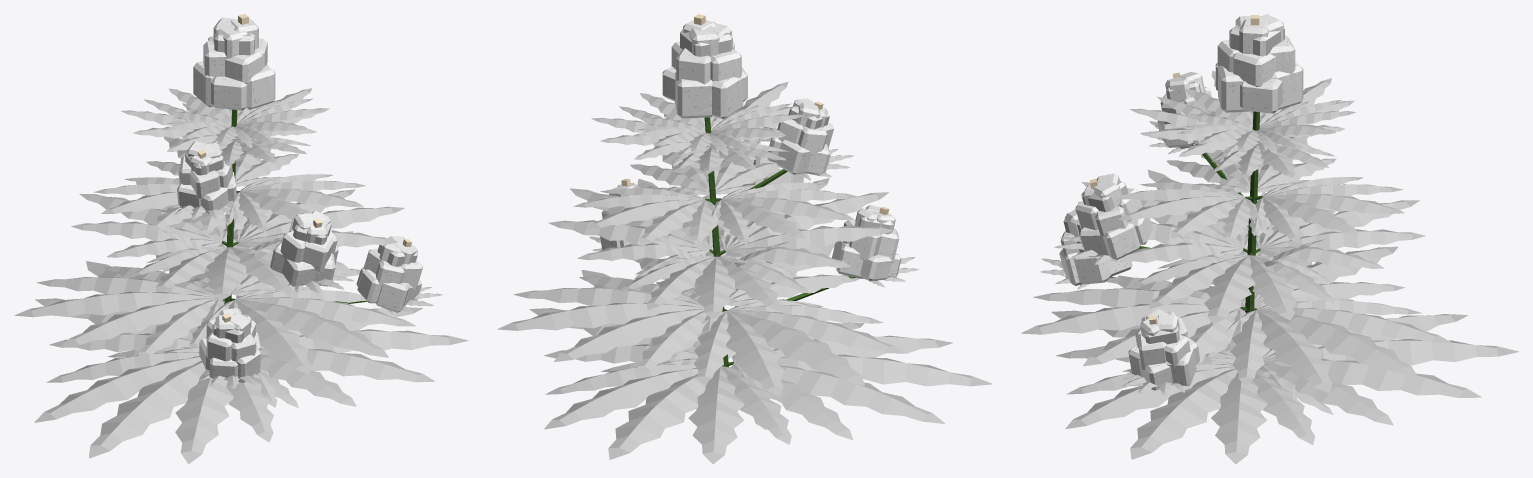
File: plant_3_1_0.obj
The picture shows the model from 3 angles, left to right: view 1: azimuth 30°, elevation 25°; view 2: azimuth 150°, elevation 25°; view 3: azimuth 270°, elevation 25°; orthographic projection. The views are drawn at different scales.
Visible parts, largest first — view 1: model; view 2: model; view 3: model.
Boxes of the visible parts, box(x1,y1,x2,y2) form: model: box(14, 14, 468, 463); model: box(497, 14, 992, 463); model: box(1021, 14, 1518, 463).
Size of the model in its own units: 1.11 by 0.9886 by 1.12.
